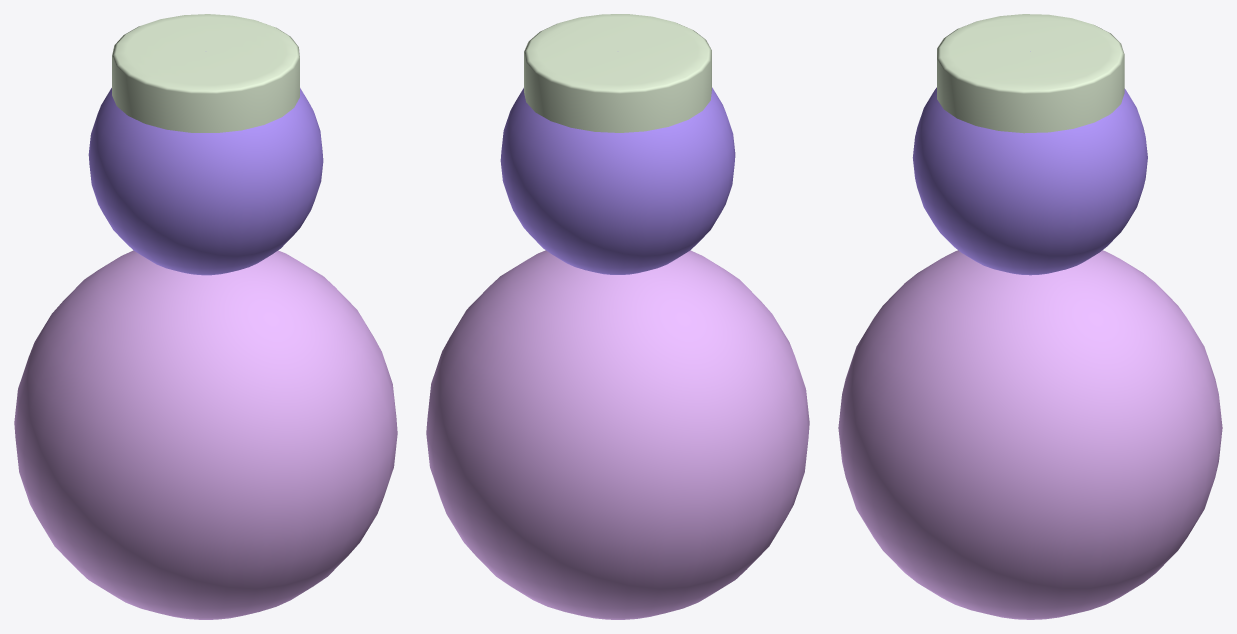
The model's file is Gosn14.fbx.
3 renders of one model, left to right at view 1: azimuth 30°, elevation 25°; view 2: azimuth 150°, elevation 25°; view 3: azimuth 270°, elevation 25°, orthographic.
Parts seen in each view (by area): view 1: cika_4_1, cika_4_1.001, cika_4_1.002; view 2: cika_4_1, cika_4_1.001, cika_4_1.002; view 3: cika_4_1, cika_4_1.001, cika_4_1.002.
Part boxes in pixels (x1,y1,x2,y2): cika_4_1: (14, 250, 397, 619); cika_4_1.001: (88, 88, 323, 275); cika_4_1.002: (112, 14, 299, 132); cika_4_1: (426, 250, 809, 619); cika_4_1.001: (500, 87, 735, 274); cika_4_1.002: (524, 14, 711, 132); cika_4_1: (838, 250, 1222, 619); cika_4_1.001: (912, 51, 1147, 275); cika_4_1.002: (937, 14, 1124, 133).
Size of the model in its own units: 5301 by 8389 by 5301.
